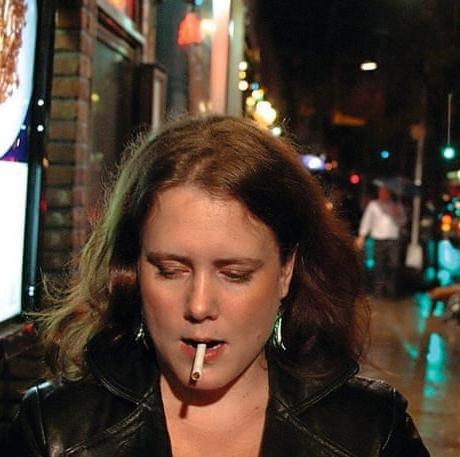Drunk: (154, 195, 273, 369)
